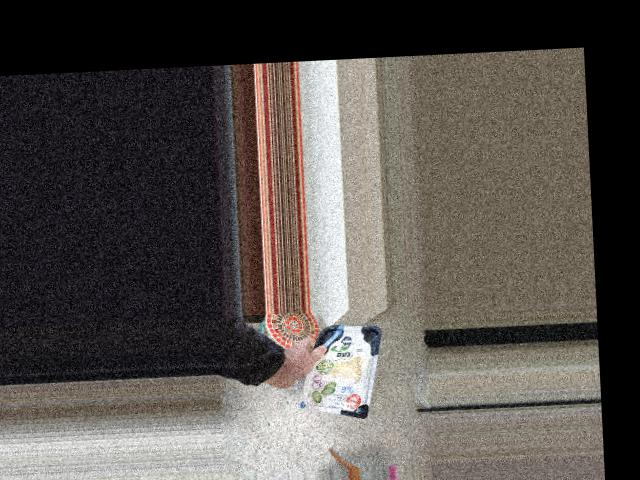cheese: (304, 317, 378, 422)
